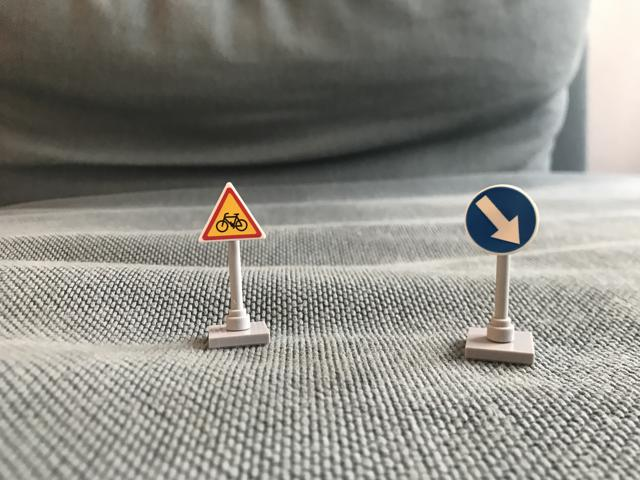radfahrer: (197, 181, 267, 249)
rechts halten: (460, 183, 540, 258)
